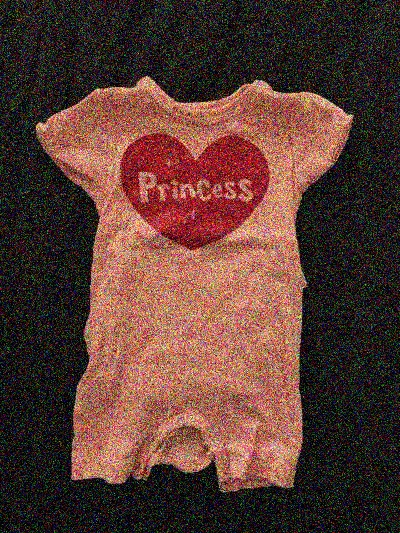Body: (7, 56, 368, 512)
